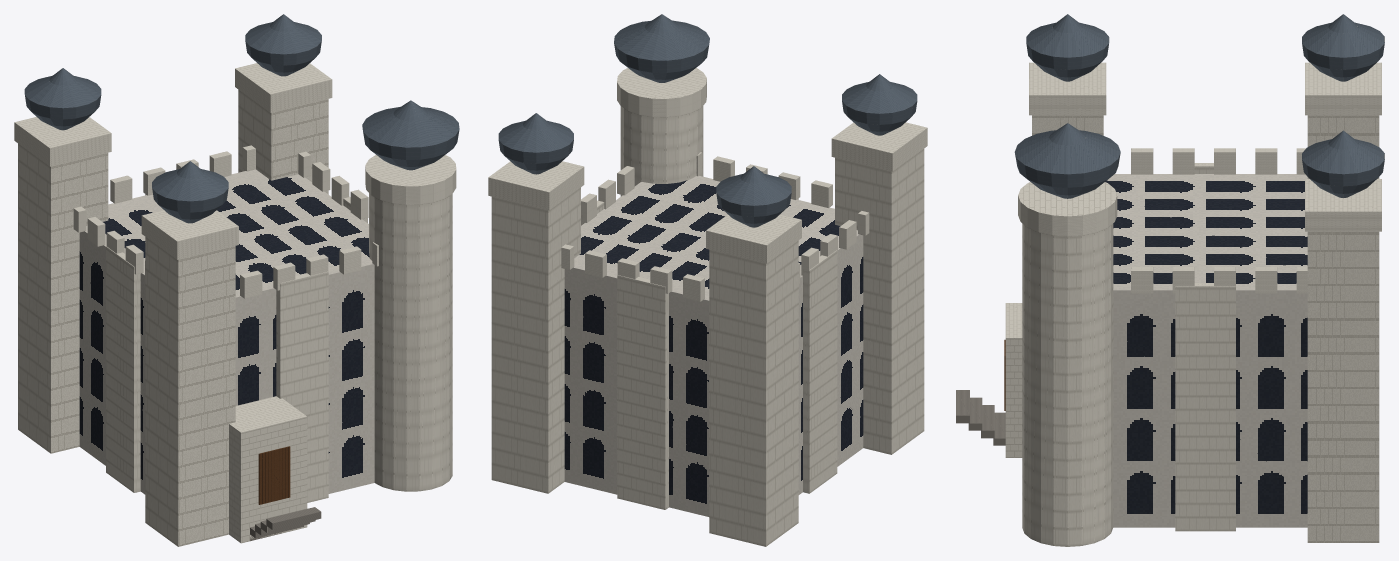
Rendered from landmark_tower_of_london.glb.
3 renders of one model, left to right at view 1: azimuth 30°, elevation 25°; view 2: azimuth 150°, elevation 25°; view 3: azimuth 270°, elevation 25°, orthographic. The views are drawn at different scales.
Visible parts, largest first — view 1: Landmark_Tower_Of_London; view 2: Landmark_Tower_Of_London; view 3: Landmark_Tower_Of_London.
Part boxes in pixels (<box>): Landmark_Tower_Of_London: <box>14,14,459,546</box>; Landmark_Tower_Of_London: <box>488,14,927,546</box>; Landmark_Tower_Of_London: <box>956,14,1384,546</box>.
Bounding box in the file's own units: 13.45 × 16.2 × 15.55.
Materials: 1 (1 with a texture image).
